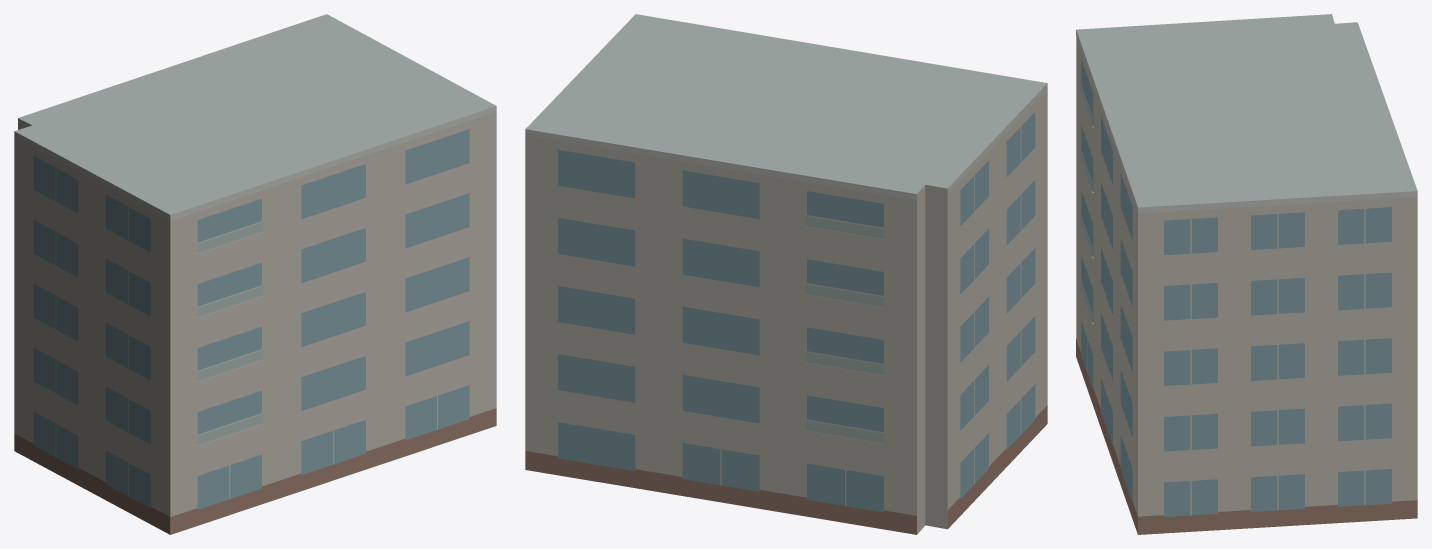
Rendered from survey-upis-32985802.glb.
3 renders of one model, left to right at view 1: azimuth 30°, elevation 25°; view 2: azimuth 150°, elevation 25°; view 3: azimuth 270°, elevation 25°, orthographic. The views are drawn at different scales.
Visible parts, largest first — view 1: survey-upis-32985802.tmp; view 2: survey-upis-32985802.tmp; view 3: survey-upis-32985802.tmp.
Boxes of the visible parts, box(x1,y1,x2,y2) form: survey-upis-32985802.tmp: box(14, 14, 496, 534); survey-upis-32985802.tmp: box(525, 14, 1047, 534); survey-upis-32985802.tmp: box(1076, 14, 1417, 534).
Size of the model in its own units: 17.01 by 13.4 by 12.68.
